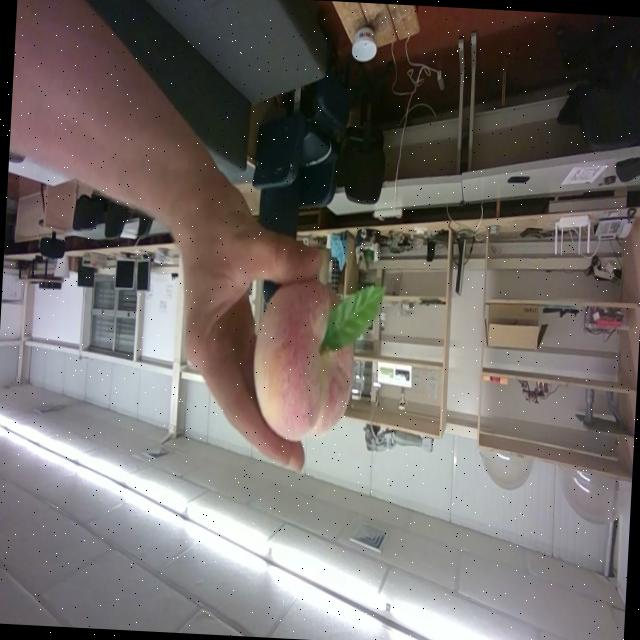peach: (253, 280, 385, 439)
